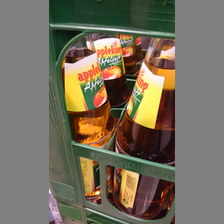juice: (113, 37, 174, 219), (63, 32, 116, 199)
